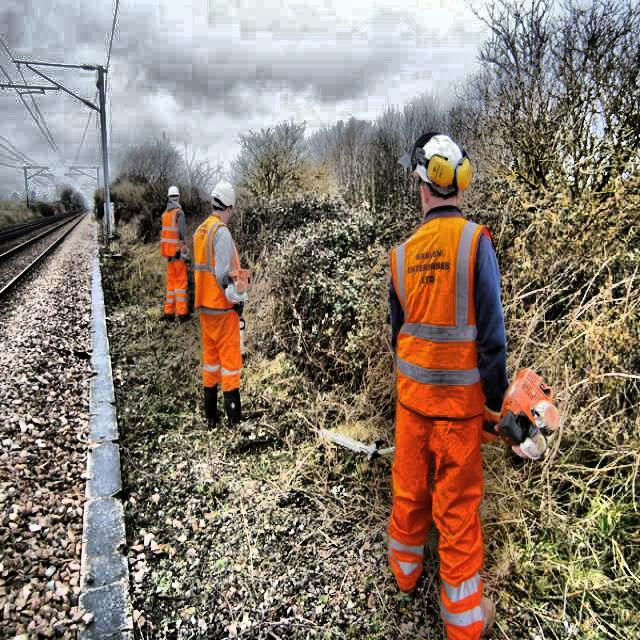person: (377, 117, 515, 640), (187, 164, 259, 433), (157, 180, 195, 326)
